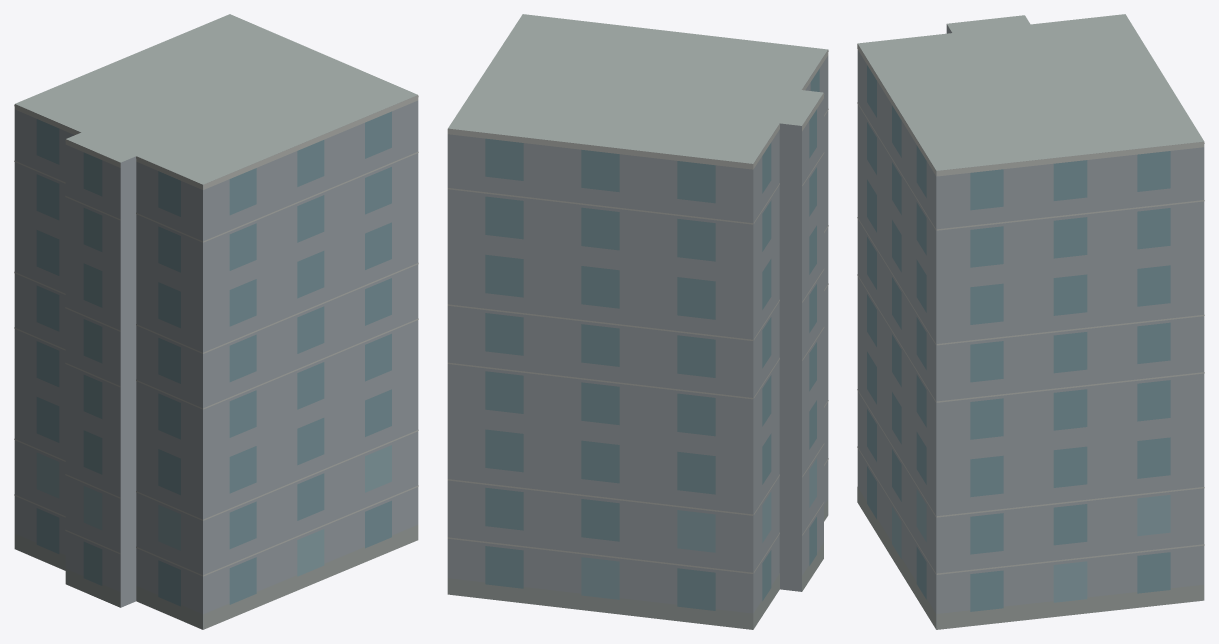
The model's file is survey-upis-33020629.glb.
3 renders of one model, left to right at view 1: azimuth 30°, elevation 25°; view 2: azimuth 150°, elevation 25°; view 3: azimuth 270°, elevation 25°, orthographic. The views are drawn at different scales.
Visible parts, largest first — view 1: survey-upis-33020629.tmp; view 2: survey-upis-33020629.tmp; view 3: survey-upis-33020629.tmp.
Part boxes in pixels (x1,y1,x2,y2): survey-upis-33020629.tmp: (14,14,418,629); survey-upis-33020629.tmp: (447,14,828,629); survey-upis-33020629.tmp: (857,14,1204,629).
Bounding box in the file's own units: 14.62 × 19.9 × 13.66.
